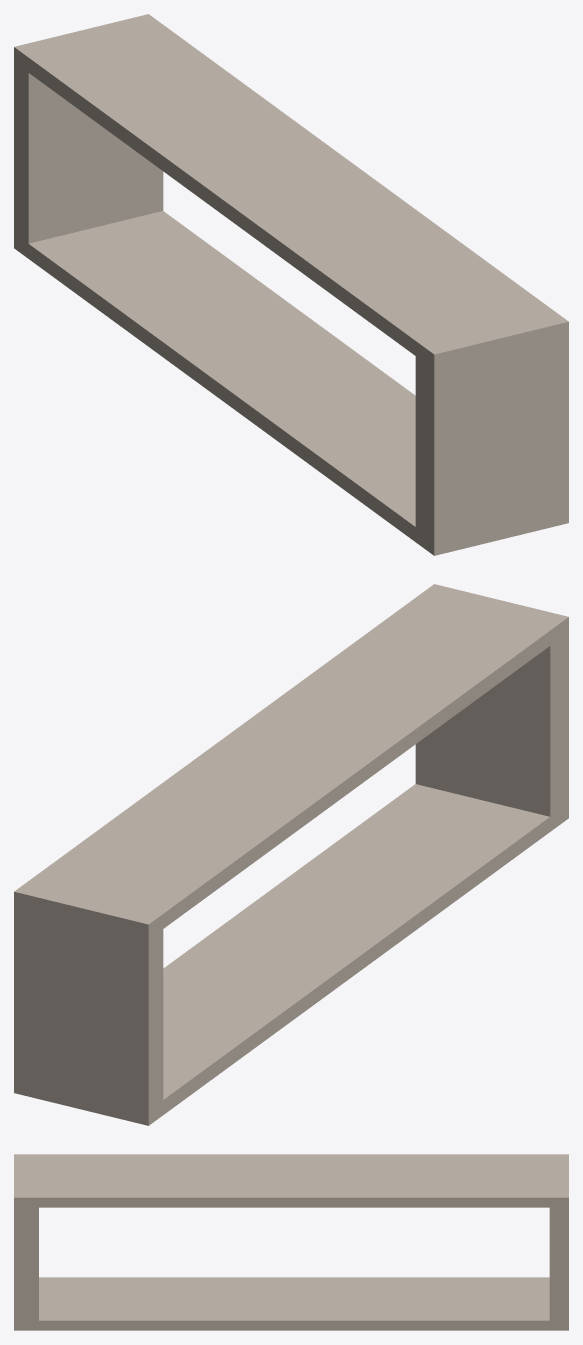
The model's file is boxShelfWide.fbx.
3 views of the same model, one above another, from view 1: azimuth 30°, elevation 25°; view 2: azimuth 150°, elevation 25°; view 3: azimuth 270°, elevation 25° (orthographic). The views are drawn at different scales.
Visible parts, largest first — view 1: pCube4; view 2: pCube4; view 3: pCube4.
Part boxes in pixels (bbox=[...]): pCube4: bbox=[14, 14, 568, 555]; pCube4: bbox=[14, 584, 568, 1125]; pCube4: bbox=[14, 1154, 568, 1330].
Bounding box in the file's own units: 1.17 × 1.68 × 6.35.
